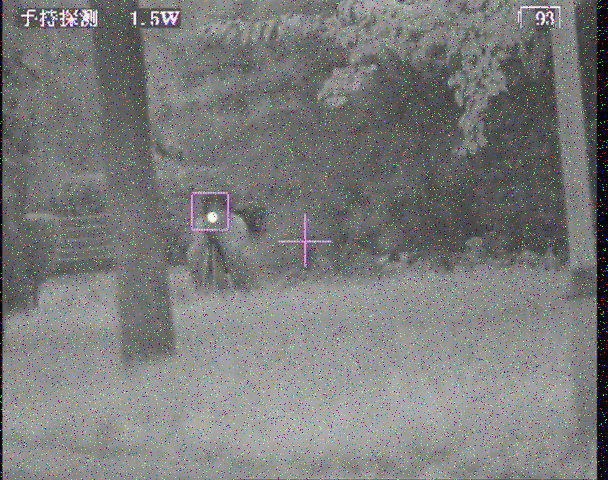my: (205, 210, 219, 225)
